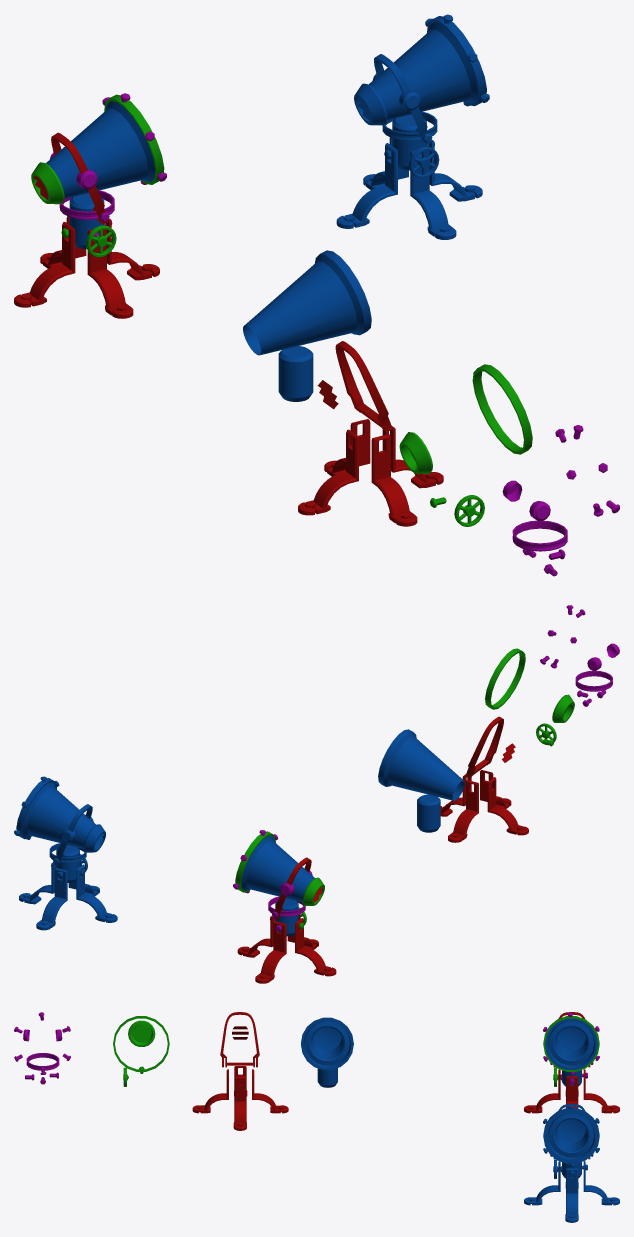
The picture shows the model from 3 angles, top to bottom: view 1: azimuth 30°, elevation 25°; view 2: azimuth 150°, elevation 25°; view 3: azimuth 270°, elevation 25°; orthographic projection. The views are drawn at different scales.
Visible parts, largest first — view 1: Cylinder217, Cylinder173, Cylinder078, Object036, Box041, Cylinder174, Object035, Line007, Box044, Box039, Box033, Tube005 (+5 smaller); view 2: Cylinder217, Cylinder173, Cylinder078, Object036, Box040, Box045, Object035, Line007, Cylinder174, Box044, Box039; view 3: Cylinder217, Cylinder173, Cylinder078, Object036, Box043, Line007, Object035, Box040, Box033, Box045, Box041, Cylinder174 (+2 smaller).
Part boxes in pixels (x1=…): Cylinder217: x1=336, y1=14, x2=489, y2=239; Cylinder173: x1=243, y1=250, x2=371, y2=355; Cylinder078: x1=46, y1=101, x2=155, y2=198; Object036: x1=399, y1=364, x2=532, y2=473; Box041: x1=371, y1=434, x2=417, y2=526; Cylinder174: x1=278, y1=346, x2=313, y2=401; Object035: x1=31, y1=94, x2=164, y2=204; Line007: x1=335, y1=341, x2=391, y2=432; Box044: x1=298, y1=429, x2=358, y2=515; Box039: x1=14, y1=222, x2=75, y2=307; Box033: x1=87, y1=229, x2=133, y2=318; Tube005: x1=512, y1=520, x2=567, y2=551; Cylinder217: x1=14, y1=776, x2=117, y2=930; Cylinder173: x1=378, y1=729, x2=464, y2=800; Cylinder078: x1=241, y1=835, x2=314, y2=902; Object036: x1=485, y1=648, x2=574, y2=722; Box040: x1=255, y1=921, x2=286, y2=983; Box045: x1=448, y1=780, x2=478, y2=842; Object035: x1=235, y1=831, x2=324, y2=905; Line007: x1=465, y1=716, x2=503, y2=778; Cylinder174: x1=417, y1=794, x2=440, y2=832; Box044: x1=487, y1=777, x2=528, y2=835; Box039: x1=295, y1=918, x2=336, y2=976; Cylinder217: x1=524, y1=1104, x2=619, y2=1222; Cylinder173: x1=301, y1=1017, x2=353, y2=1069; Cylinder078: x1=545, y1=1018, x2=597, y2=1069; Object036: x1=113, y1=1016, x2=169, y2=1071; Box043: x1=233, y1=1076, x2=246, y2=1130; Line007: x1=220, y1=1012, x2=259, y2=1067; Object035: x1=543, y1=1016, x2=599, y2=1071; Box040: x1=583, y1=1069, x2=619, y2=1113; Box033: x1=524, y1=1069, x2=560, y2=1113; Box045: x1=252, y1=1069, x2=288, y2=1113; Box041: x1=192, y1=1069, x2=228, y2=1113; Cylinder174: x1=317, y1=1068, x2=337, y2=1087.
Bounding box in the file's own units: 26779 × 10204 × 51761.
